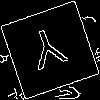Y: (25, 25, 72, 80)
